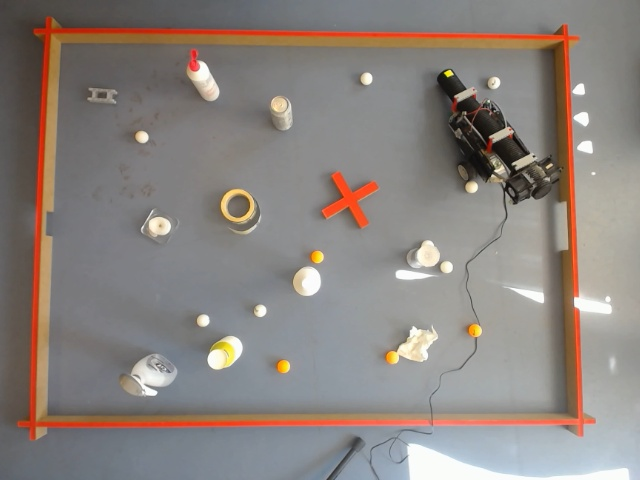orange: (275, 359, 291, 375), (310, 249, 325, 265), (384, 350, 400, 365), (468, 323, 482, 338)
white: (118, 352, 180, 398), (206, 337, 243, 371), (292, 266, 322, 299), (268, 95, 294, 132), (142, 214, 174, 243), (206, 343, 231, 372), (417, 239, 441, 268), (602, 468, 630, 480), (133, 129, 151, 146), (358, 71, 375, 89), (194, 313, 211, 329), (252, 303, 269, 319), (440, 259, 454, 274)
